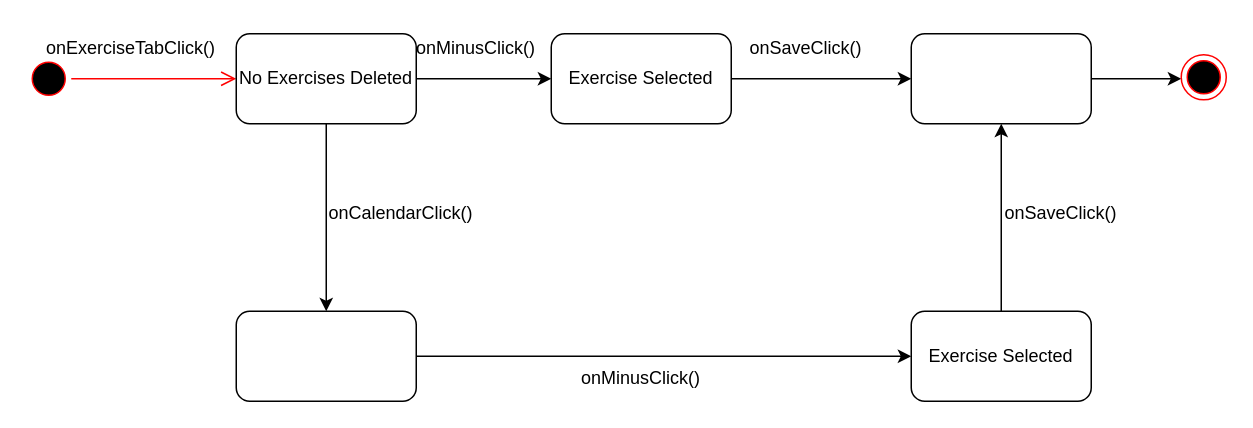
Some shapes in this 1253 by 428 pixel diagram are drawn without their labels. Each missing label, with the box of its shape:
Date Selected: (235, 310, 416, 401)
Exercise Deleted: (910, 32, 1091, 124)
